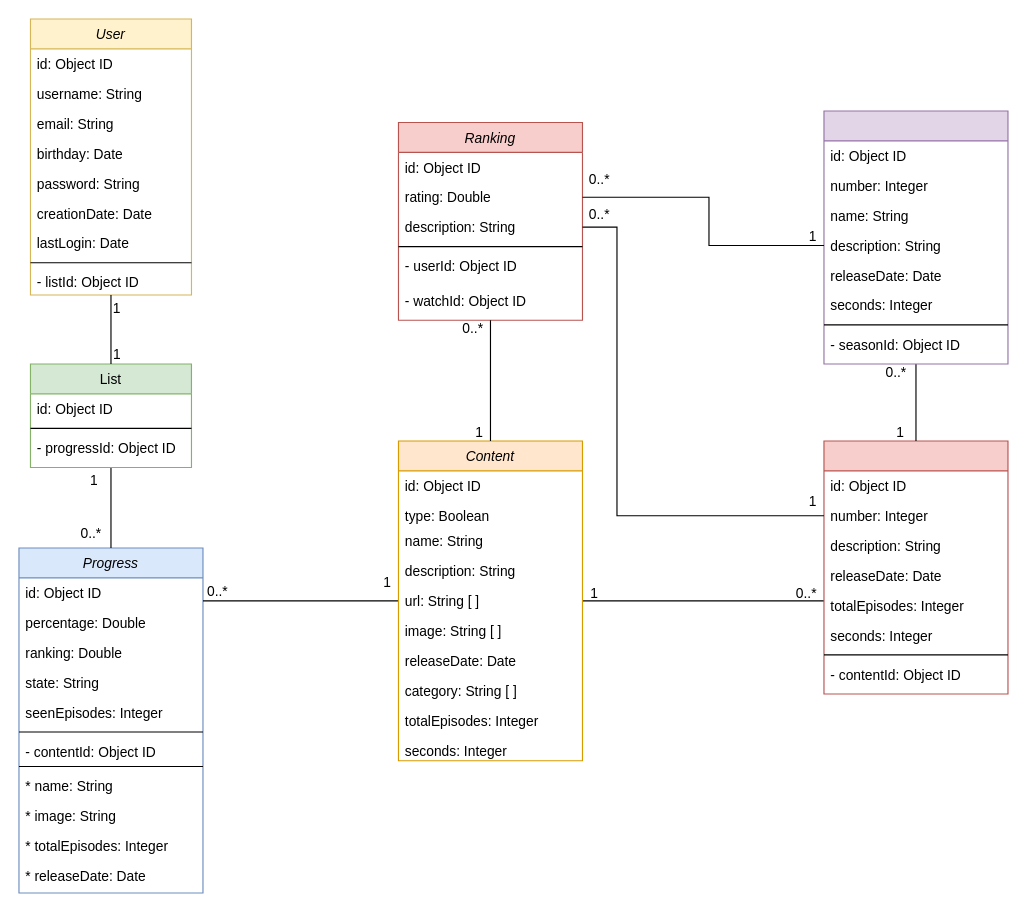
The diagram is 1027 pixels wide and 912 high, and some of its shapes have lost their labels. Each missing label, with the box of its shape:
Episode: (823, 110, 1008, 364)
Season: (823, 440, 1008, 694)
